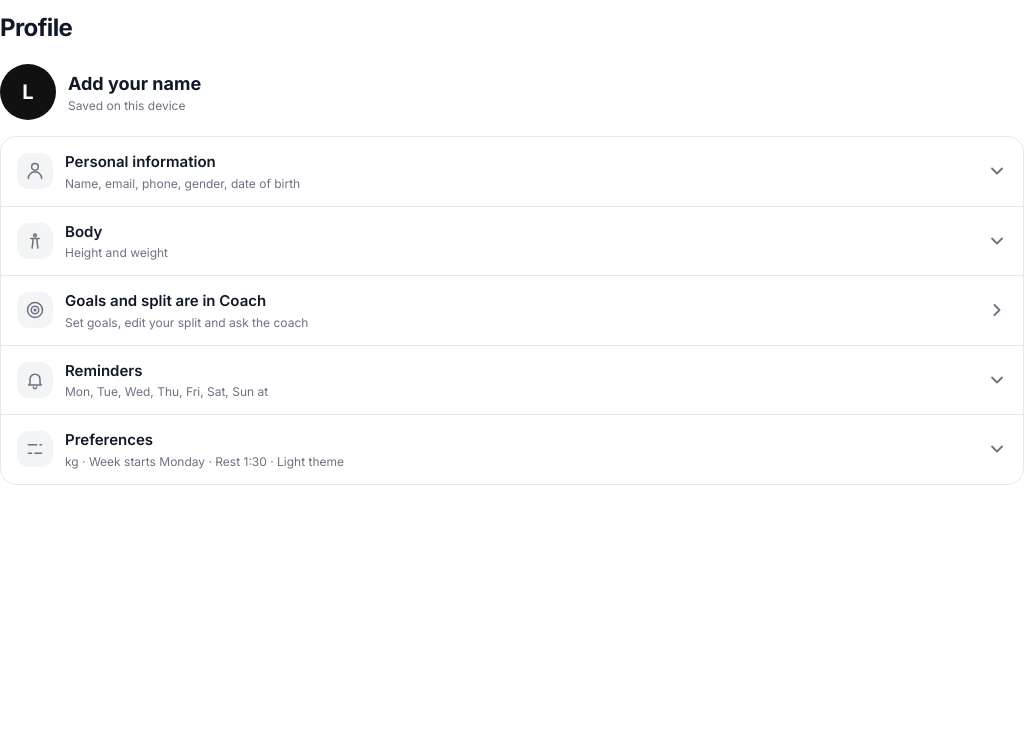
Scenario: Profile theme toggle › offers Light, Dark and System with Light selected by default
Click the button "Preferences": (35, 449) [1,415,1023,484]
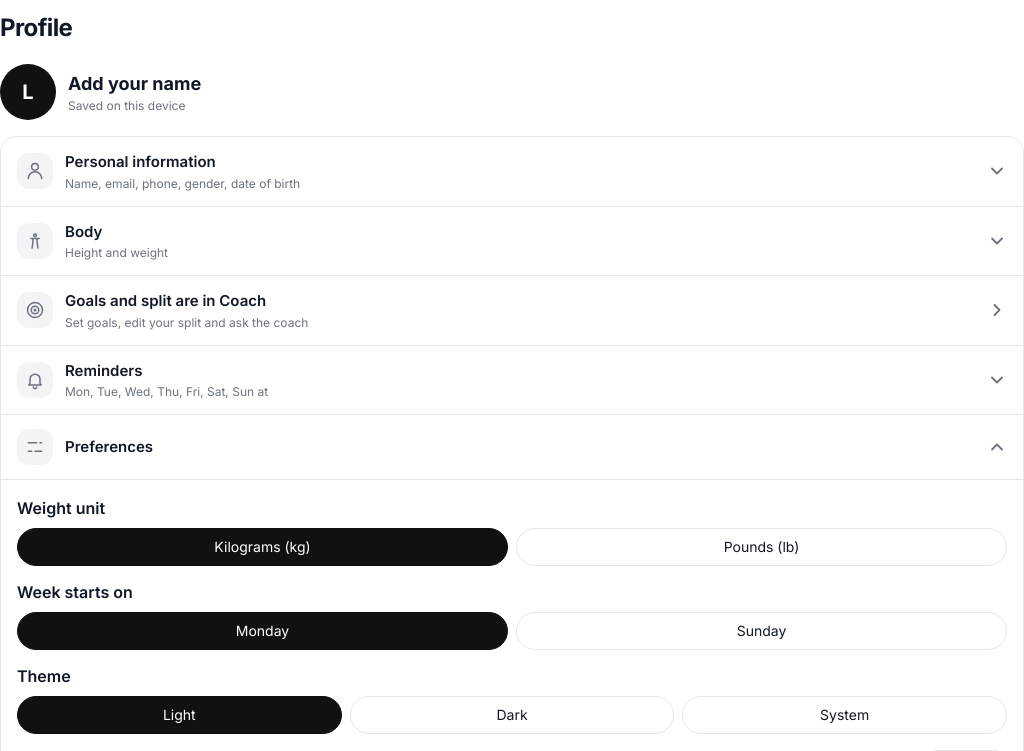
Expected: the radio buttons read "Light", "Dark", "System", in this order, [17,696,342,734]; [350,696,674,734]; [682,696,1007,734]
